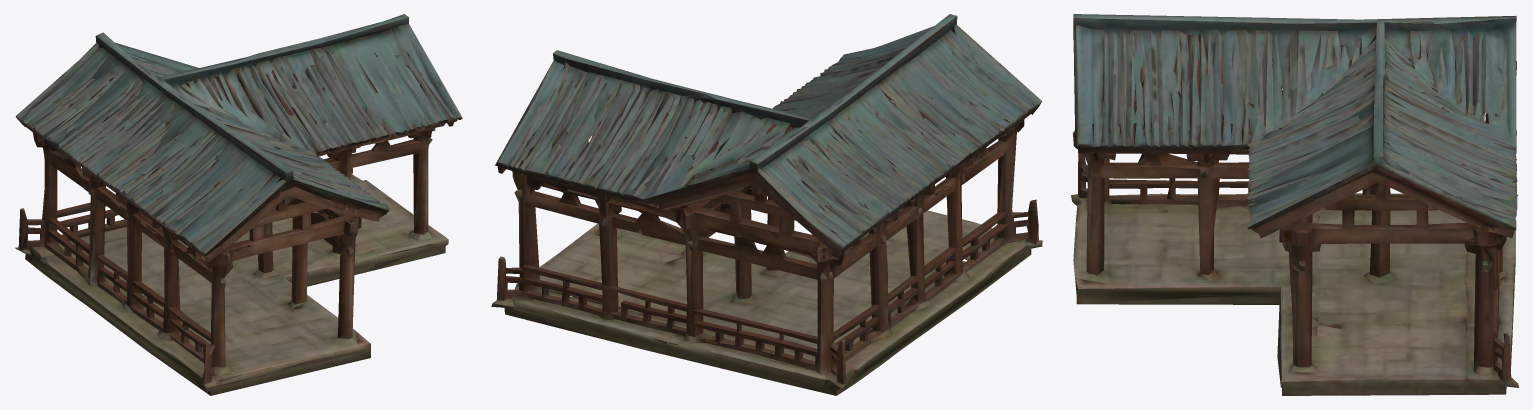
The model's file is ARCH-005.glb.
The picture shows the model from 3 angles, left to right: view 1: azimuth 30°, elevation 25°; view 2: azimuth 150°, elevation 25°; view 3: azimuth 270°, elevation 25°; orthographic projection. The views are drawn at different scales.
Parts seen in each view (by area): view 1: world; view 2: world; view 3: world.
Part boxes in pixels (box(x1,y1,x2,y2)): world: box(15, 14, 462, 395); world: box(491, 14, 1042, 395); world: box(1071, 14, 1518, 395).
Size of the model in its own units: 6 by 3.58 by 5.97.
Materials: 1 (1 with a texture image).
